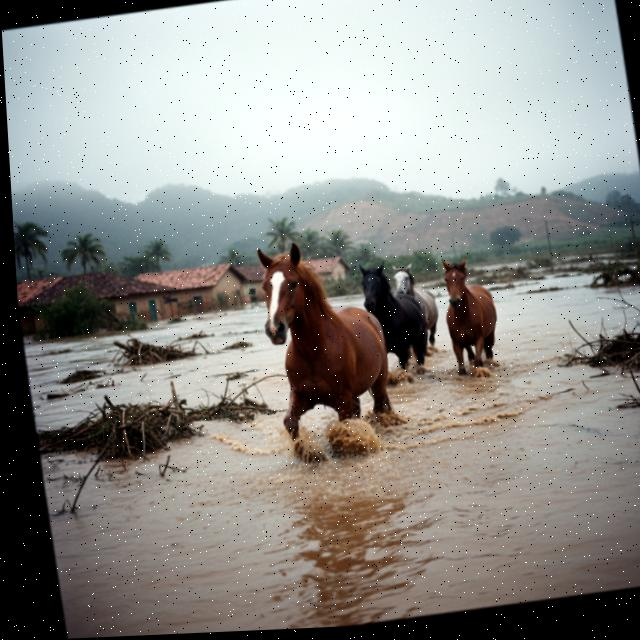horse: (245, 228, 419, 446), (355, 254, 439, 385), (433, 249, 512, 387), (386, 259, 452, 368)
